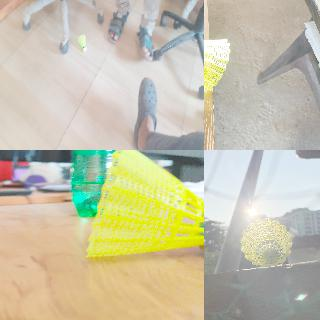shuttlecock: (85, 150, 203, 257), (240, 218, 292, 266), (204, 36, 230, 92), (77, 34, 86, 52)
